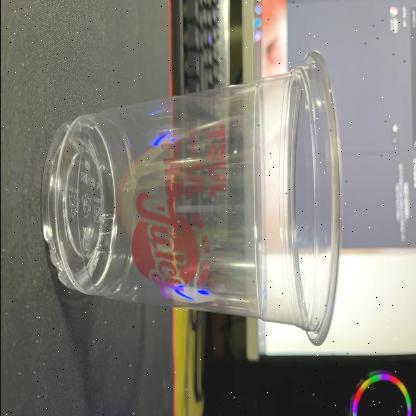Others: (40, 53, 342, 348)
